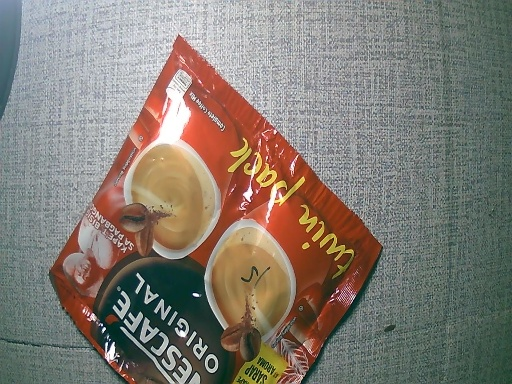plastic: (44, 38, 383, 384)
